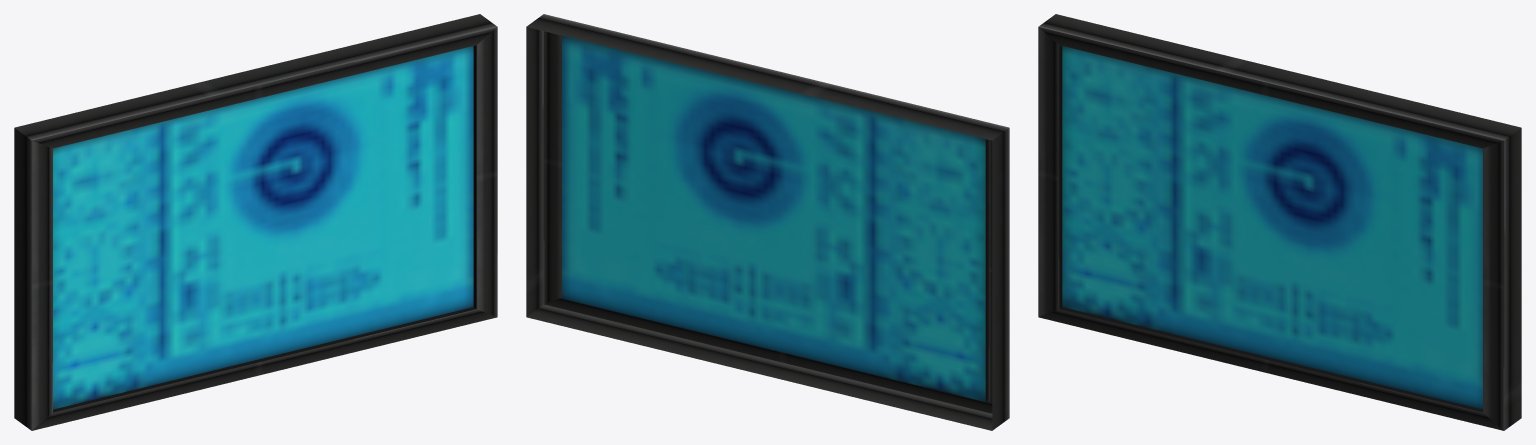
The model's file is telacomputadorG-3.fbx.
3 renders of one model, left to right at view 1: azimuth 30°, elevation 25°; view 2: azimuth 150°, elevation 25°; view 3: azimuth 330°, elevation 25°, orthographic.
Parts seen in each view (by area): view 1: Cylinder.001; view 2: Cylinder.001; view 3: Cylinder.001.
Boxes of the visible parts, x1=… form: Cylinder.001: x1=14, y1=14, x2=497, y2=430; Cylinder.001: x1=526, y1=14, x2=1009, y2=430; Cylinder.001: x1=1038, y1=14, x2=1521, y2=430.
Bounding box in the file's own units: 2.69 × 1.6 × 0.1759.
